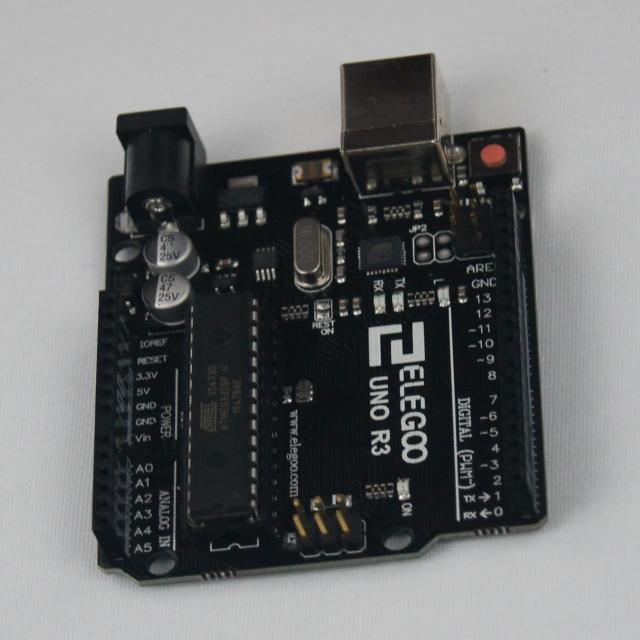Arduino Uno -Black-: (94, 55, 547, 581)
